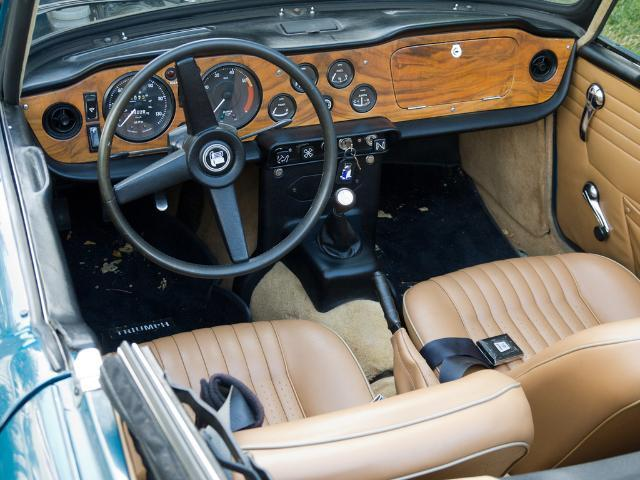Seatbelt: (205, 383, 261, 479), (418, 333, 520, 385)
